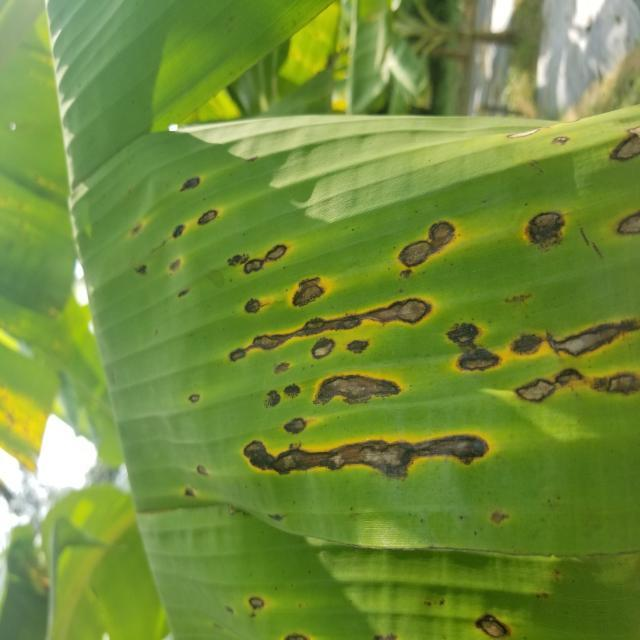Early_rust: (67, 105, 640, 632)
